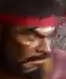ryu: (5, 12, 60, 71)
